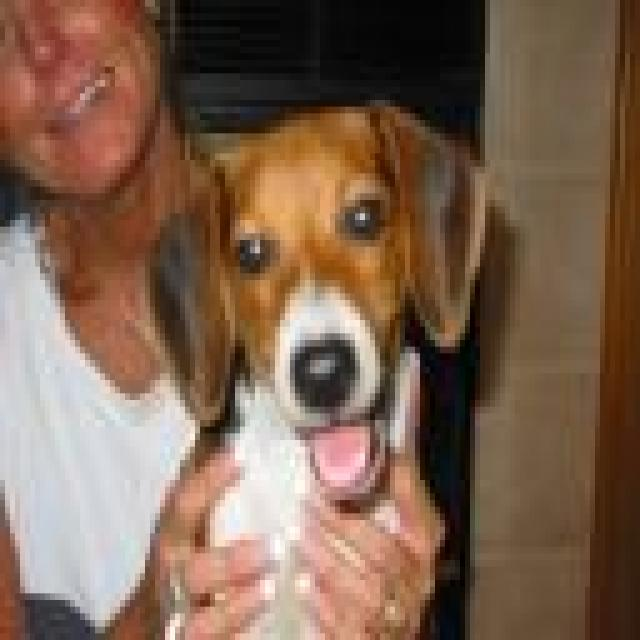dogs: (140, 93, 495, 640)
